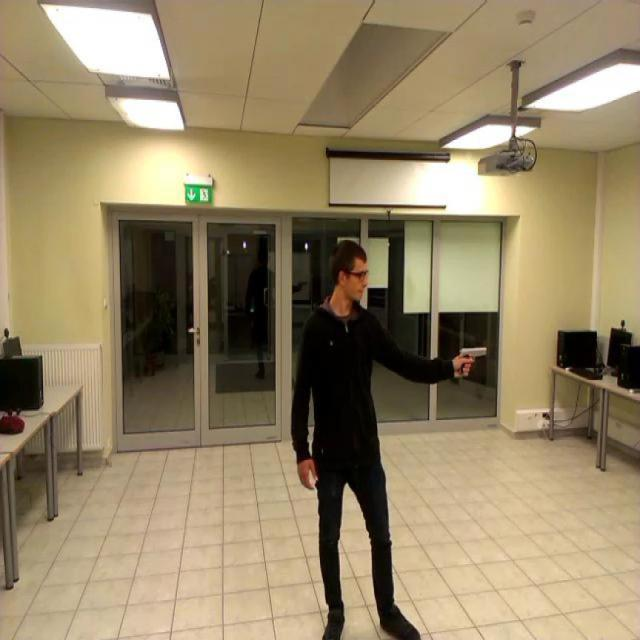pistol: (458, 346, 488, 374)
